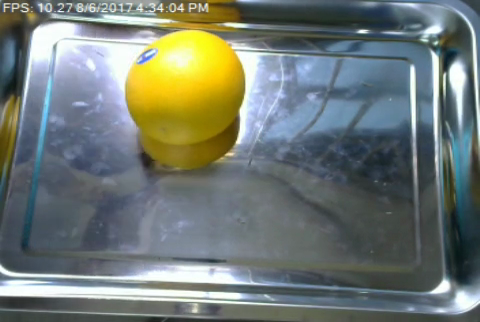Orange: (125, 29, 245, 143)
